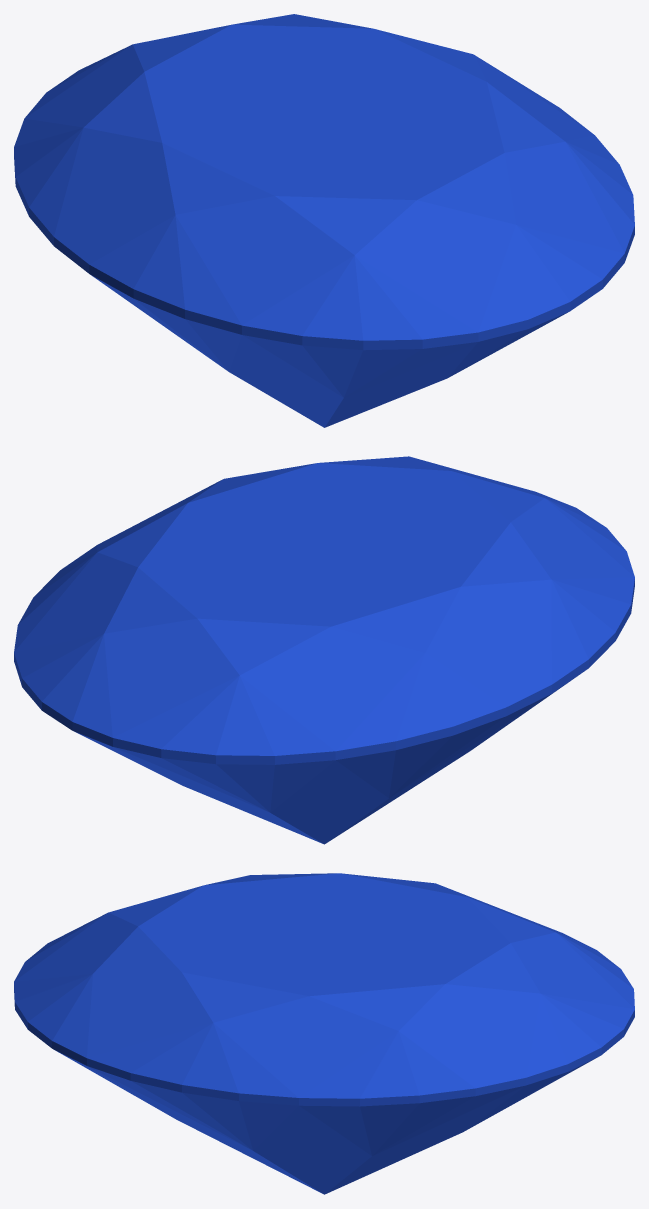
Rendered from stone-sapphire.glb.
3 views of the same model, one above another, from view 1: azimuth 30°, elevation 25°; view 2: azimuth 150°, elevation 25°; view 3: azimuth 270°, elevation 25° (orthographic). The views are drawn at different scales.
Parts seen in each view (by area): view 1: Gemstone Sapphire; view 2: Gemstone Sapphire; view 3: Gemstone Sapphire.
Boxes of the visible parts, box(x1,y1,x2,y2) form: Gemstone Sapphire: box(14, 14, 634, 427); Gemstone Sapphire: box(14, 456, 634, 844); Gemstone Sapphire: box(14, 873, 634, 1194).
Size of the model in its own units: 2 by 1.18 by 2.55.
